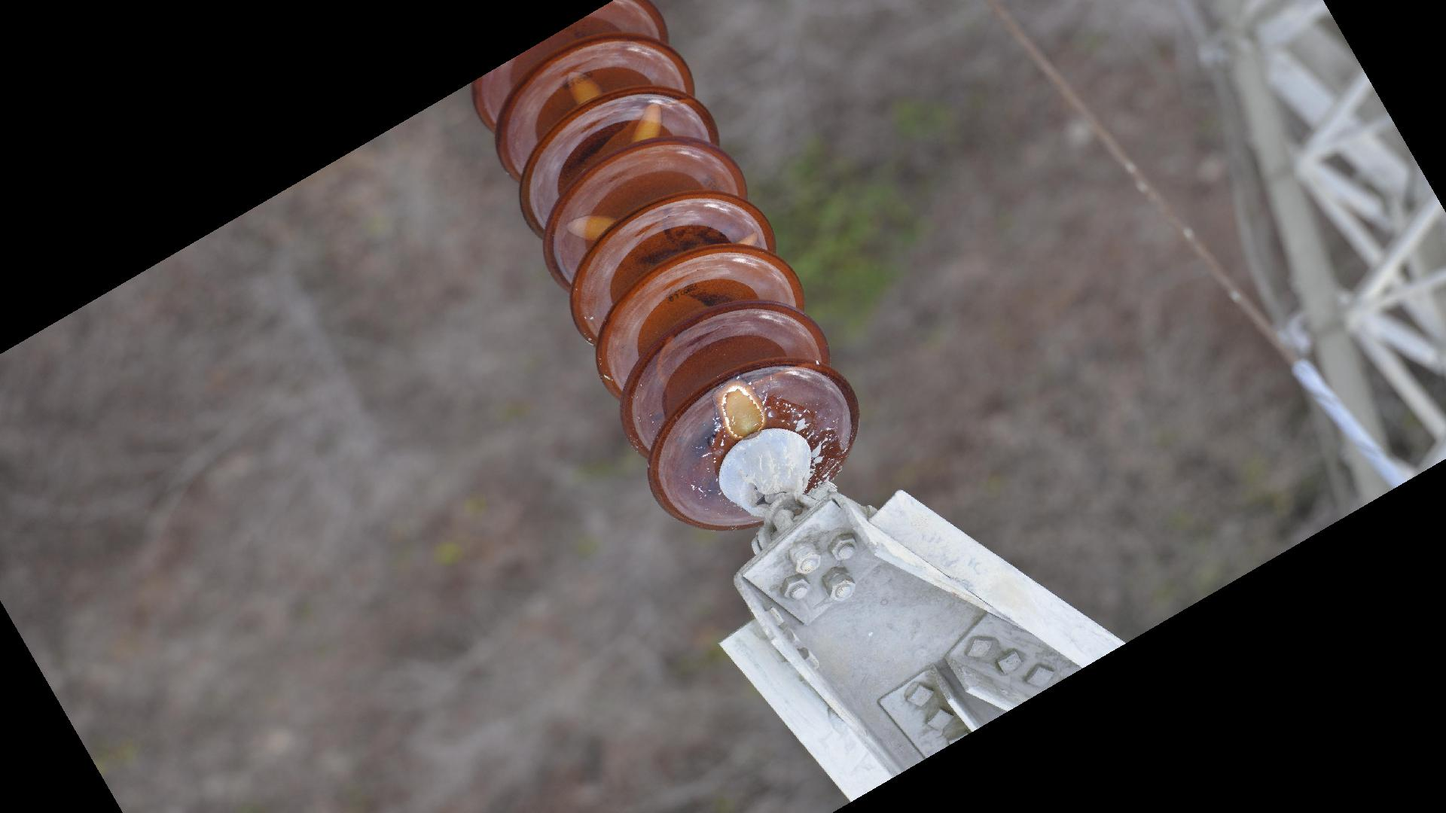insulator: (462, 1, 863, 537)
insulator_flashover: (717, 381, 768, 439), (564, 212, 620, 245), (564, 69, 604, 107), (629, 102, 664, 145)
